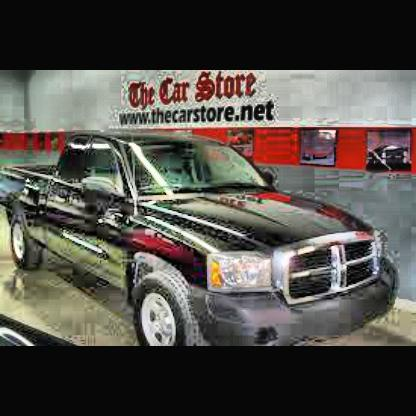Dodge Dakota Club Cab 2007: (3, 129, 406, 346)
